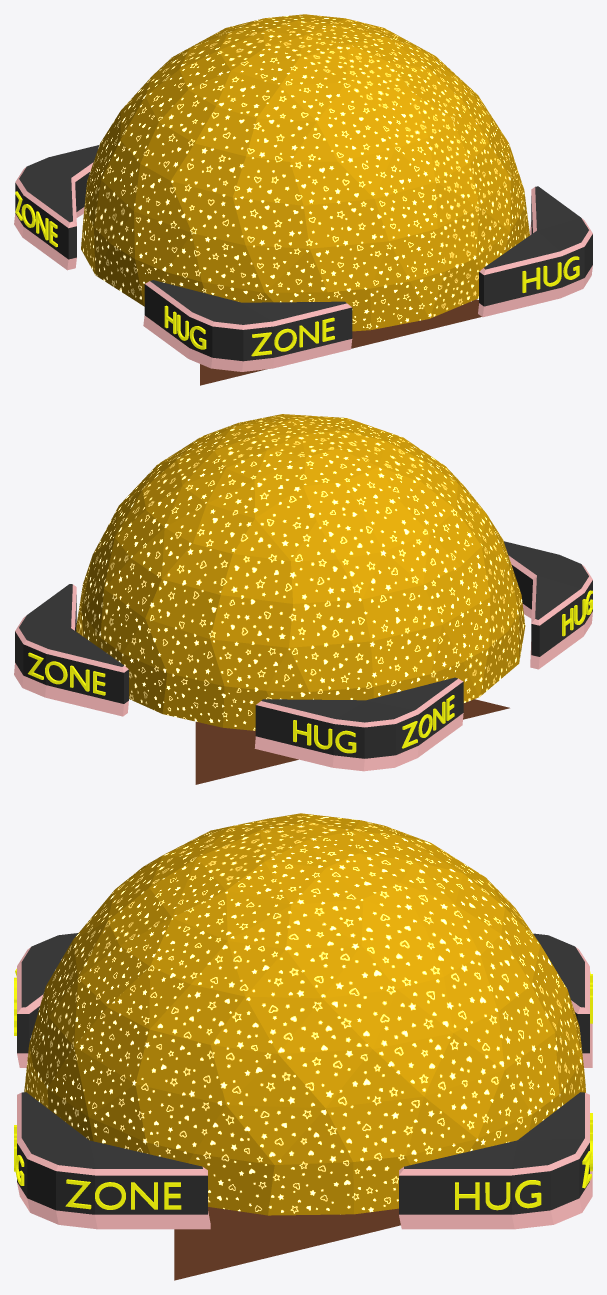
Rendered from hugZone.glb.
3 views of the same model, one above another, from view 1: azimuth 30°, elevation 25°; view 2: azimuth 150°, elevation 25°; view 3: azimuth 270°, elevation 25° (orthographic). The views are drawn at different scales.
Visible parts, largest first — view 1: Dome, hug-zone, words, spinner; view 2: Dome, hug-zone, spinner, words; view 3: Dome, hug-zone, spinner, words.
Part boxes in pixels (x1,y1,x2,y2): Dome: [81, 14, 529, 331]; hug-zone: [14, 145, 592, 371]; words: [15, 191, 579, 356]; spinner: [200, 299, 481, 385]; Dome: [76, 414, 525, 730]; hug-zone: [14, 541, 592, 771]; spinner: [195, 699, 509, 784]; words: [28, 590, 592, 753]; Dome: [24, 813, 585, 1215]; hug-zone: [17, 933, 592, 1229]; spinner: [174, 1207, 400, 1280]; words: [14, 968, 592, 1210].
Size of what is drawn, in the model's own units: 9.51 by 6.23 by 9.51.
4 materials, 3 textured.
